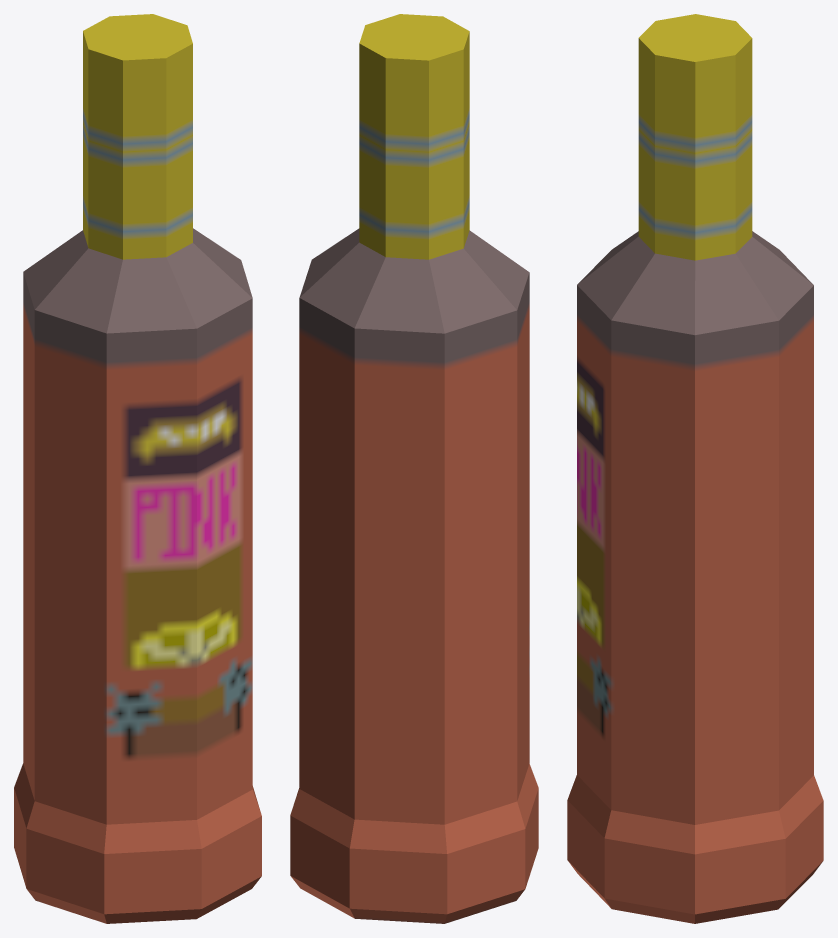
Rendered from Alcohol4.fbx.
3 renders of one model, left to right at view 1: azimuth 30°, elevation 25°; view 2: azimuth 150°, elevation 25°; view 3: azimuth 270°, elevation 25°, orthographic.
Visible parts, largest first — view 1: Alcohol.001; view 2: Alcohol.001; view 3: Alcohol.001.
Boxes of the visible parts, bbox=[...] form: Alcohol.001: bbox=[14, 14, 261, 923]; Alcohol.001: bbox=[290, 14, 538, 923]; Alcohol.001: bbox=[567, 14, 823, 923].
Size of the model in its own units: 14.56 by 52.45 by 14.56.
